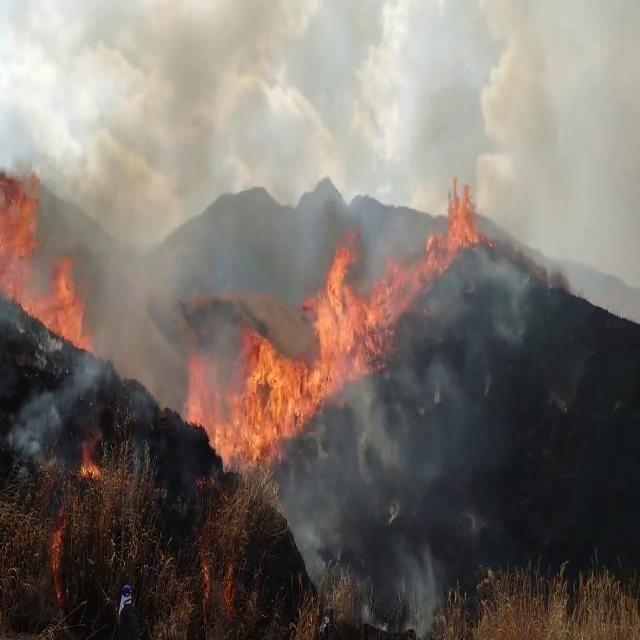Fire: (183, 237, 414, 468), (0, 155, 105, 378), (420, 172, 486, 277), (74, 438, 102, 486)
Smoke: (259, 278, 550, 622)
